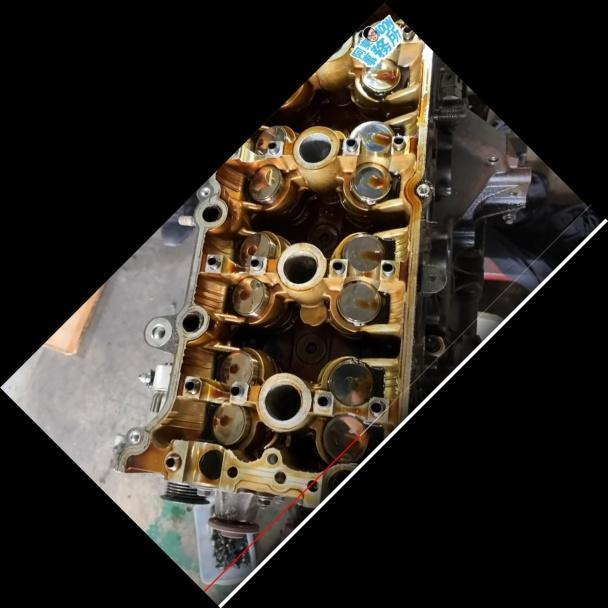hole: (269, 465, 292, 489), (147, 320, 169, 343), (412, 179, 434, 201), (262, 449, 280, 468), (223, 462, 241, 480), (127, 428, 144, 445), (196, 183, 212, 199), (485, 151, 500, 166)
